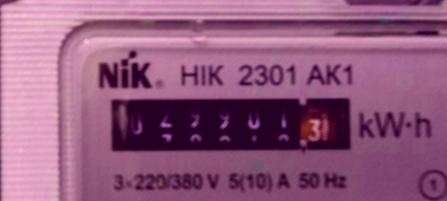0: (126, 109, 144, 136), (245, 102, 261, 131)
1: (276, 101, 289, 129)
2: (156, 103, 174, 130)
3: (305, 116, 322, 142)
9: (186, 102, 202, 129), (217, 103, 230, 130)
screen: (101, 88, 361, 161)
